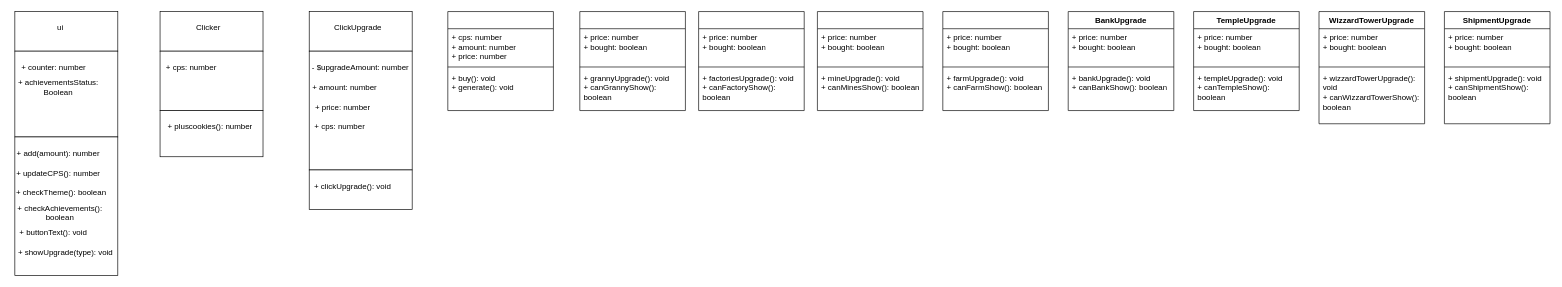
This 1562x287 diagram has some shape labels left out. The shapes that lost their labels are listed below. From the top down, each one's box as (x1, y1, x2, y2) in pixels, then its label:
(447, 11, 553, 111): AutoGenerater
(579, 11, 685, 111): GrandmaUpgrade
(698, 11, 804, 111): FactoryUpgrade
(817, 11, 923, 111): MinesUpgrade
(942, 11, 1048, 111): FarmsUpgrade
